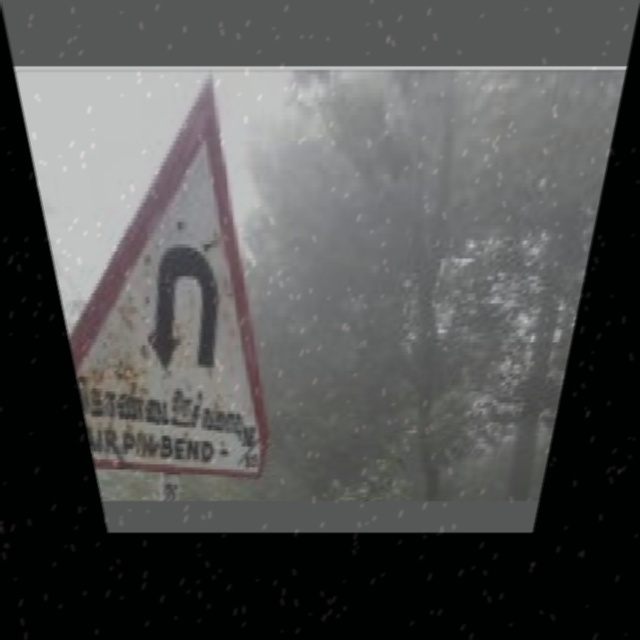Left_Hair_Pin_Bend: (110, 212, 239, 374)
